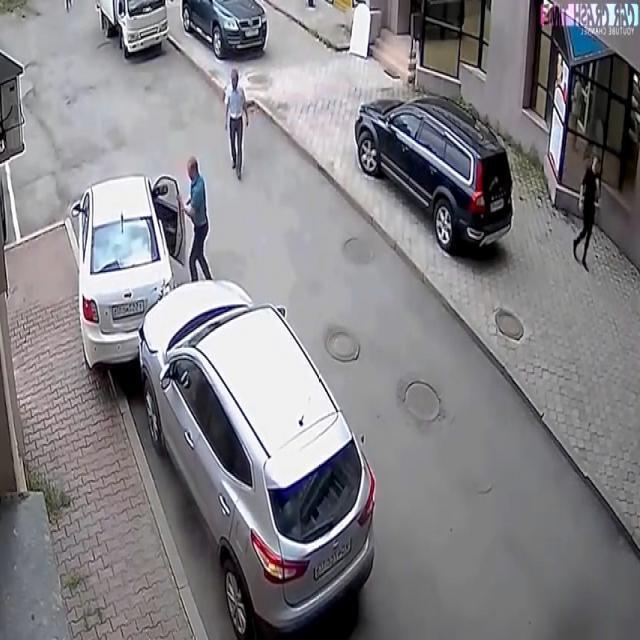multiple_accident: (91, 244, 243, 417)
